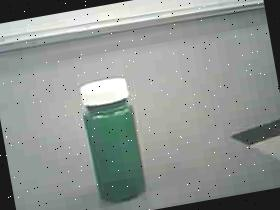Bottle C: (63, 62, 167, 210)
